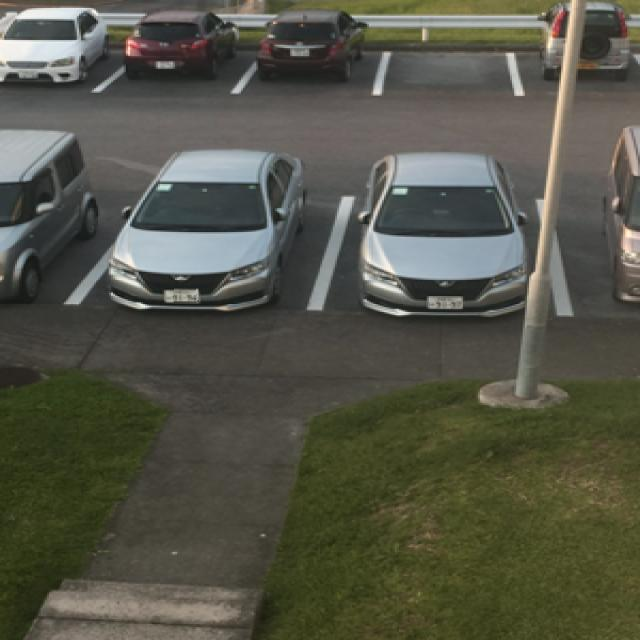licence: (162, 288, 199, 304), (426, 294, 461, 310)
